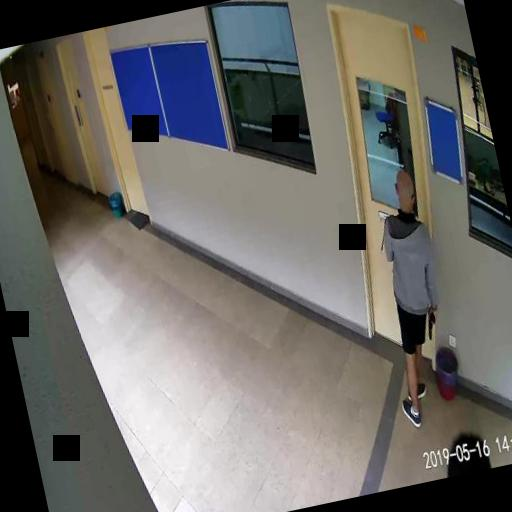Handgun: (421, 304, 439, 340)
